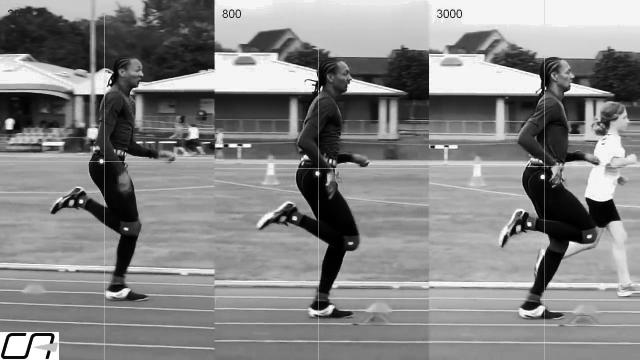berlari: (484, 47, 610, 326), (253, 45, 375, 328), (40, 50, 170, 307)
